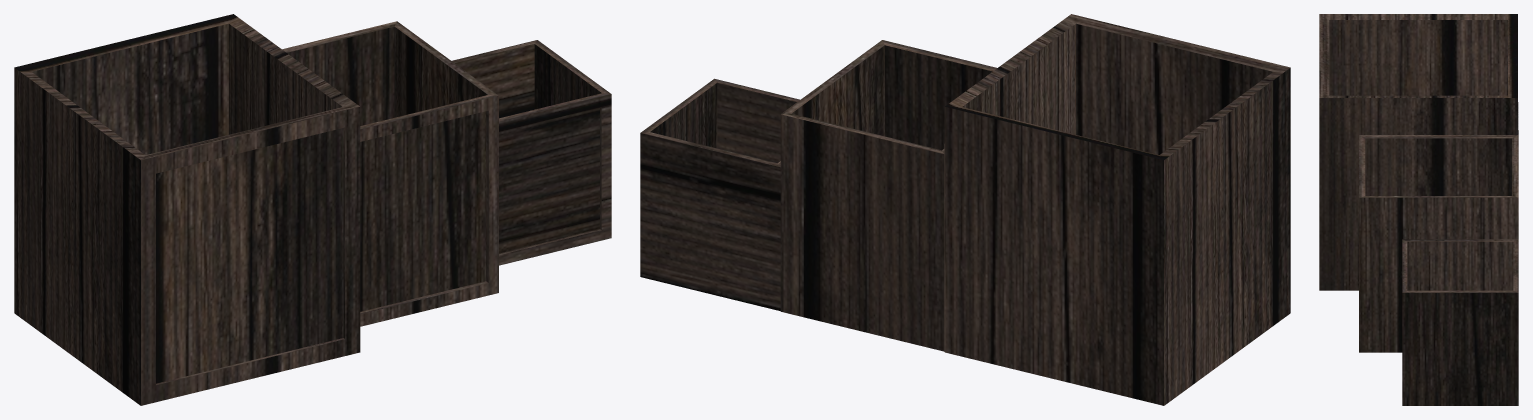
Rendered from PenHolder.fbx.
3 views of the same model, side by side, from view 1: azimuth 30°, elevation 25°; view 2: azimuth 150°, elevation 25°; view 3: azimuth 270°, elevation 25° (orthographic). The views are drawn at different scales.
Parts seen in each view (by area): view 1: PenHolder; view 2: PenHolder; view 3: PenHolder.
Part boxes in pixels (x1,y1,x2,y2): PenHolder: (14, 14, 611, 405); PenHolder: (640, 14, 1290, 405); PenHolder: (1319, 14, 1518, 405).
Size of the model in its own units: 45.42 by 20.37 by 19.08.
